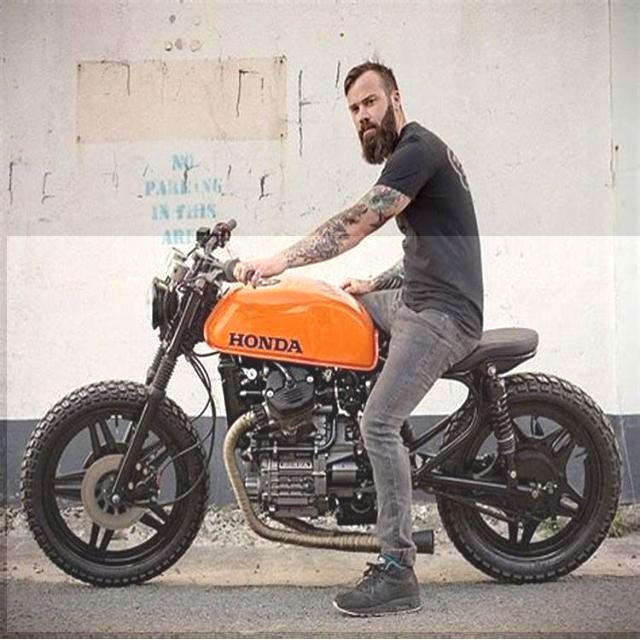Bike: (7, 236, 640, 632)
